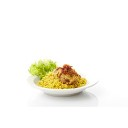briyani: (42, 67, 87, 87)
